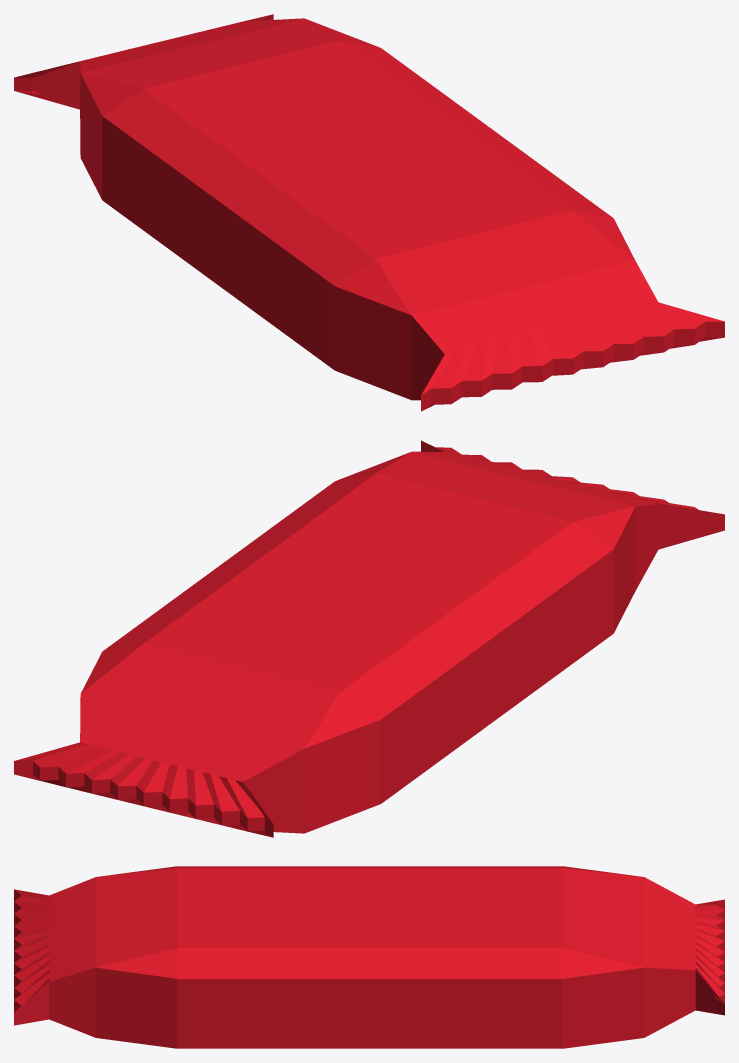
File: RedBars.fbx
3 views of the same model, one above another, from view 1: azimuth 30°, elevation 25°; view 2: azimuth 150°, elevation 25°; view 3: azimuth 270°, elevation 25° (orthographic). The views are drawn at different scales.
Parts seen in each view (by area): view 1: Cube; view 2: Cube; view 3: Cube.
Part boxes in pixels (box(x1,y1,x2,y2)): Cube: box(14, 14, 724, 411); Cube: box(14, 440, 724, 837); Cube: box(14, 866, 724, 1048).
Size of the model in its own units: 179 by 67.22 by 438.
